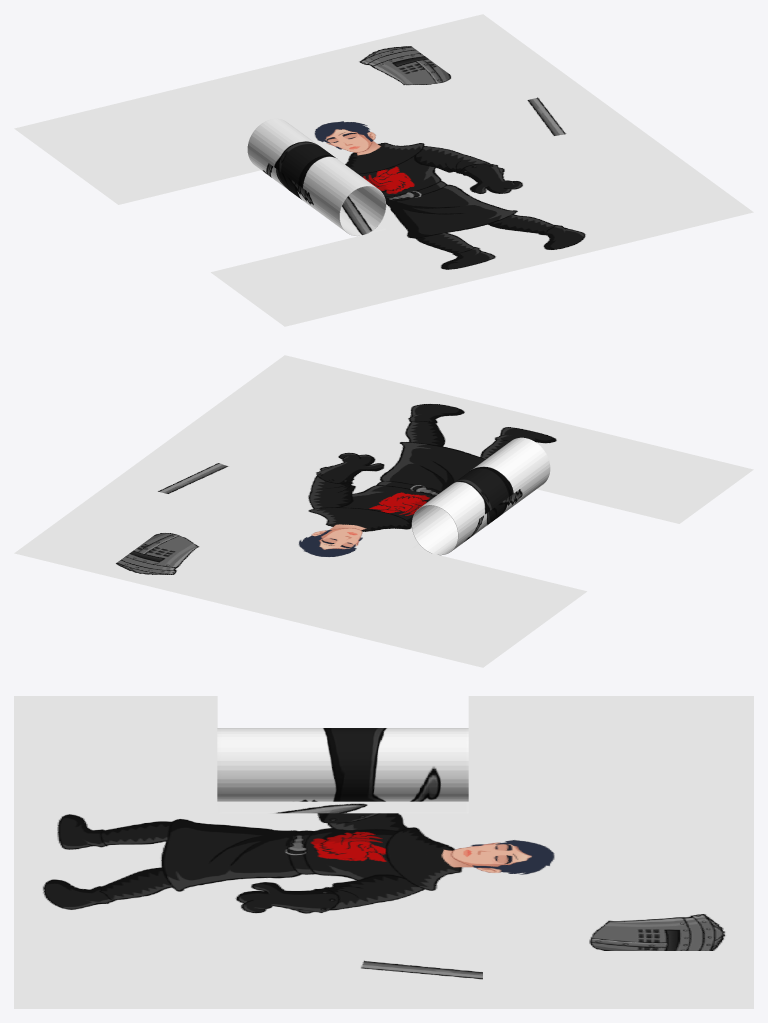
The model's file is Level 48.fbx.
The picture shows the model from 3 angles, top to bottom: view 1: azimuth 30°, elevation 25°; view 2: azimuth 150°, elevation 25°; view 3: azimuth 270°, elevation 25°; orthographic projection. The views are drawn at different scales.
Parts seen in each view (by area): view 1: main, Blend; view 2: main, Blend; view 3: main, Blend.
Boxes of the visible parts, bbox=[...] form: main: bbox=[14, 14, 753, 326]; Blend: bbox=[247, 118, 386, 236]; main: bbox=[14, 355, 753, 667]; Blend: bbox=[411, 437, 550, 555]; main: bbox=[14, 696, 753, 1008]; Blend: bbox=[217, 728, 468, 813].
Bounding box in the file's own units: 2400 × 239 × 2400.
